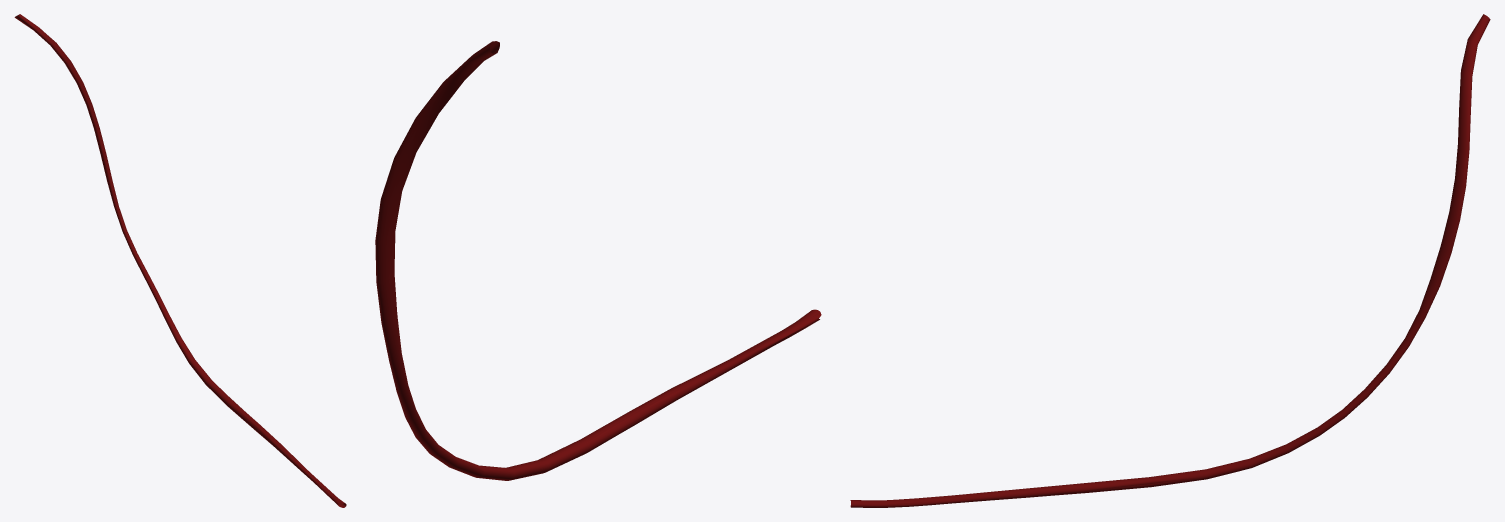
Rendered from R arteria epigastrica cranialis.fbx.
3 views of the same model, side by side, from view 1: azimuth 30°, elevation 25°; view 2: azimuth 150°, elevation 25°; view 3: azimuth 270°, elevation 25° (orthographic). The views are drawn at different scales.
Parts seen in each view (by area): view 1: R arteria epigastrica cranialis, R arteria epigastrica cranialis low; view 2: R arteria epigastrica cranialis, R arteria epigastrica cranialis low; view 3: R arteria epigastrica cranialis, R arteria epigastrica cranialis low.
Boxes of the visible parts, box(x1,y1,x2,y2) form: R arteria epigastrica cranialis: box(14, 14, 344, 507); R arteria epigastrica cranialis low: box(24, 21, 346, 507); R arteria epigastrica cranialis: box(375, 42, 820, 480); R arteria epigastrica cranialis low: box(376, 41, 821, 476); R arteria epigastrica cranialis: box(850, 14, 1490, 507); R arteria epigastrica cranialis low: box(850, 81, 1471, 507).
Bounding box in the file's own units: 9.58 × 33.83 × 44.68.
